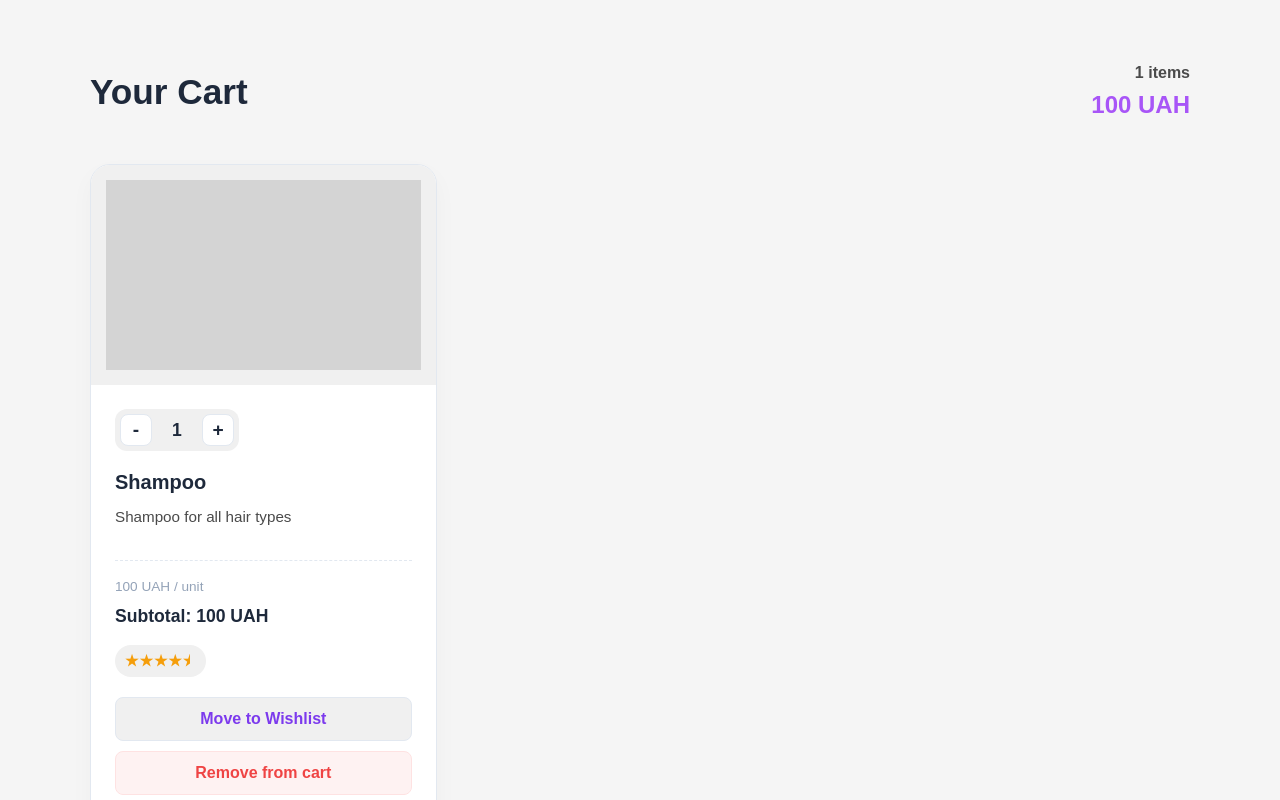
Test case: Cart › moves an item to the wishlist and removes it from the cart
Click the button "Move to Wishlist" at point(263, 719), box x1=115 y1=697 x2=412 y2=741
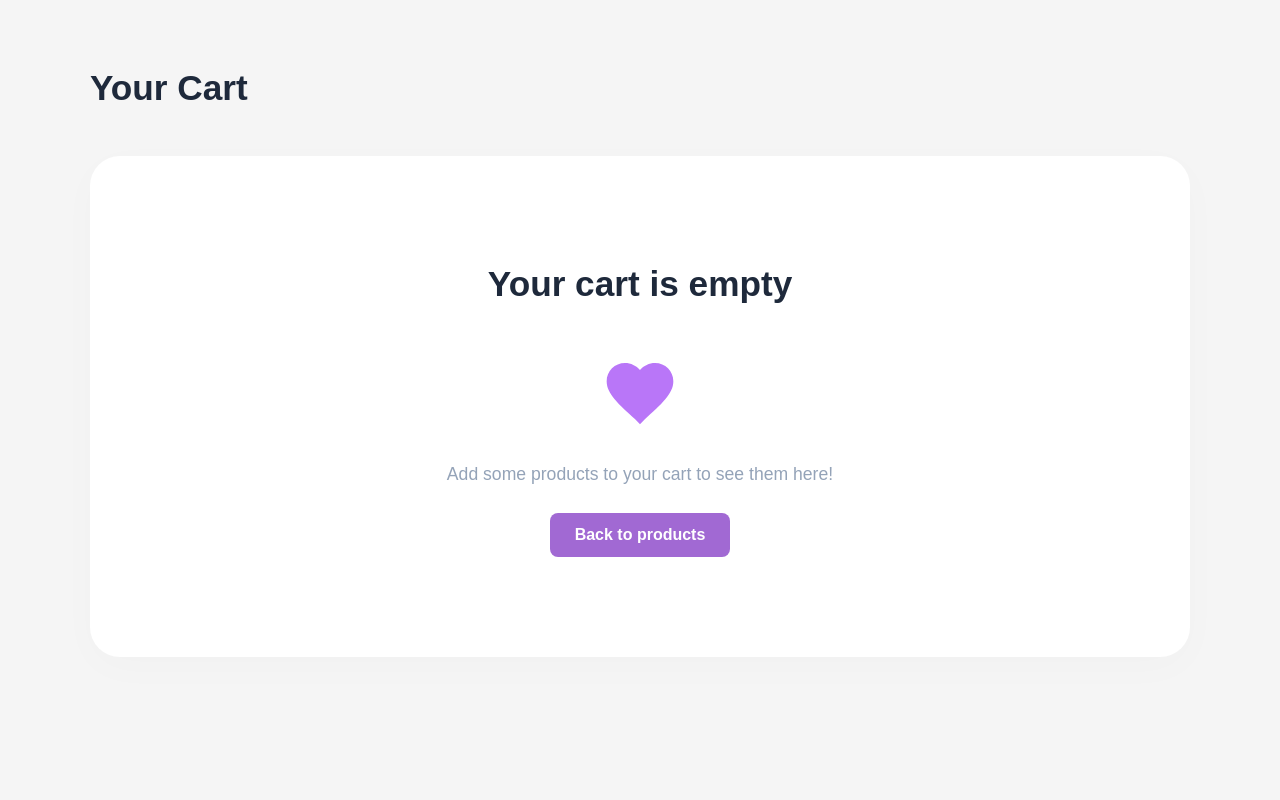
Result: the heading "Your cart is empty" is shown at x1=488 y1=264 x2=792 y2=303
